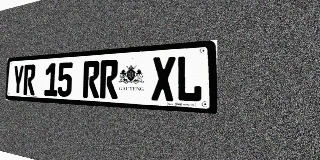1: (44, 63, 58, 96)
5: (57, 62, 73, 97)
L: (176, 54, 202, 103)
R: (100, 59, 118, 99), (83, 60, 100, 98), (23, 64, 36, 95)
X: (151, 56, 175, 101)
Y: (12, 65, 24, 95)
